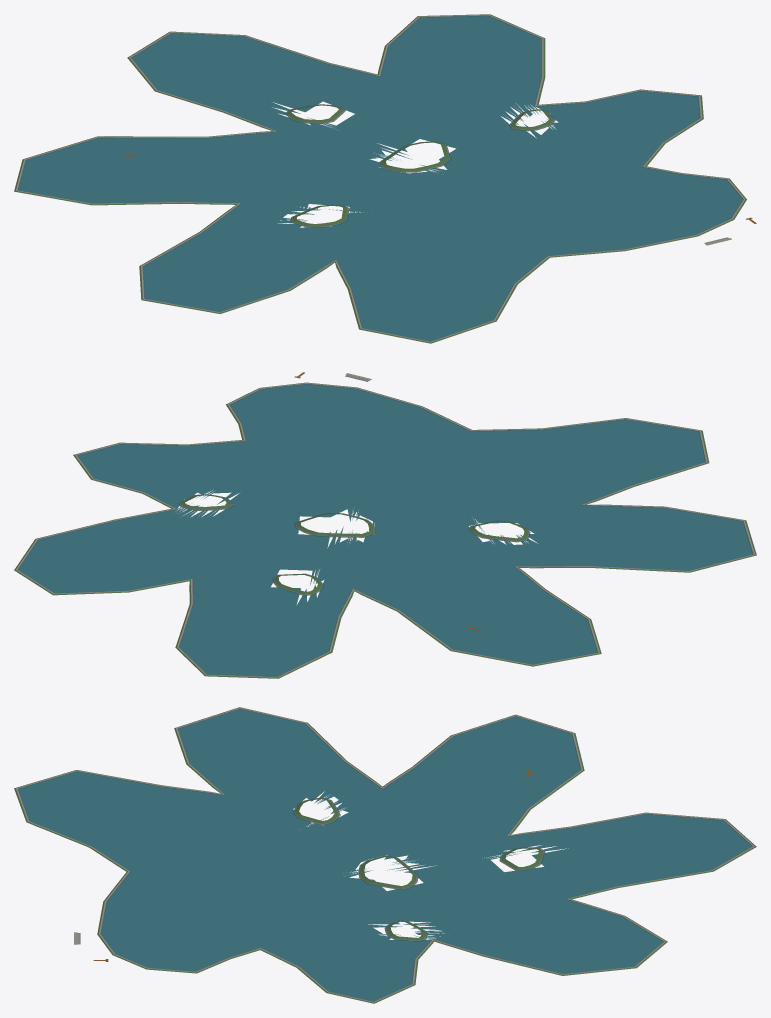
The model's file is water_ho_tuyen_lam.glb.
3 renders of one model, top to bottom at view 1: azimuth 30°, elevation 25°; view 2: azimuth 150°, elevation 25°; view 3: azimuth 270°, elevation 25°, orthographic. The views are drawn at different scales.
Visible parts, largest first — view 1: water_surface_water_ho_tuyen_lam, shoreline_terrain_transition_verge_water_ho_tuyen_lam, lakeside_promenade_walkway_water_ho_tuyen_lam, embankment_stone_coping_water_ho_tuyen_lam, embankment_stone_slope_water_ho_tuyen_lam; view 2: water_surface_water_ho_tuyen_lam, shoreline_terrain_transition_verge_water_ho_tuyen_lam, lakeside_promenade_walkway_water_ho_tuyen_lam, embankment_stone_coping_water_ho_tuyen_lam, embankment_stone_slope_water_ho_tuyen_lam; view 3: water_surface_water_ho_tuyen_lam, shoreline_terrain_transition_verge_water_ho_tuyen_lam, lakeside_promenade_walkway_water_ho_tuyen_lam, embankment_stone_coping_water_ho_tuyen_lam, embankment_stone_slope_water_ho_tuyen_lam.
Boxes of the visible parts, x1,y1,x2,y2 form: water_surface_water_ho_tuyen_lam: [18, 15, 742, 341]; shoreline_terrain_transition_verge_water_ho_tuyen_lam: [14, 14, 746, 343]; lakeside_promenade_walkway_water_ho_tuyen_lam: [16, 14, 745, 342]; embankment_stone_coping_water_ho_tuyen_lam: [17, 15, 743, 341]; embankment_stone_slope_water_ho_tuyen_lam: [18, 15, 742, 326]; water_surface_water_ho_tuyen_lam: [18, 384, 752, 676]; shoreline_terrain_transition_verge_water_ho_tuyen_lam: [14, 382, 756, 678]; lakeside_promenade_walkway_water_ho_tuyen_lam: [16, 383, 754, 677]; embankment_stone_coping_water_ho_tuyen_lam: [17, 383, 753, 677]; embankment_stone_slope_water_ho_tuyen_lam: [18, 383, 752, 673]; water_surface_water_ho_tuyen_lam: [18, 708, 752, 1001]; shoreline_terrain_transition_verge_water_ho_tuyen_lam: [14, 707, 756, 1003]; lakeside_promenade_walkway_water_ho_tuyen_lam: [16, 707, 754, 1002]; embankment_stone_coping_water_ho_tuyen_lam: [17, 708, 753, 1001]; embankment_stone_slope_water_ho_tuyen_lam: [18, 708, 751, 983].
Size of the model in its own units: 2388 by 5.35 by 2527.
